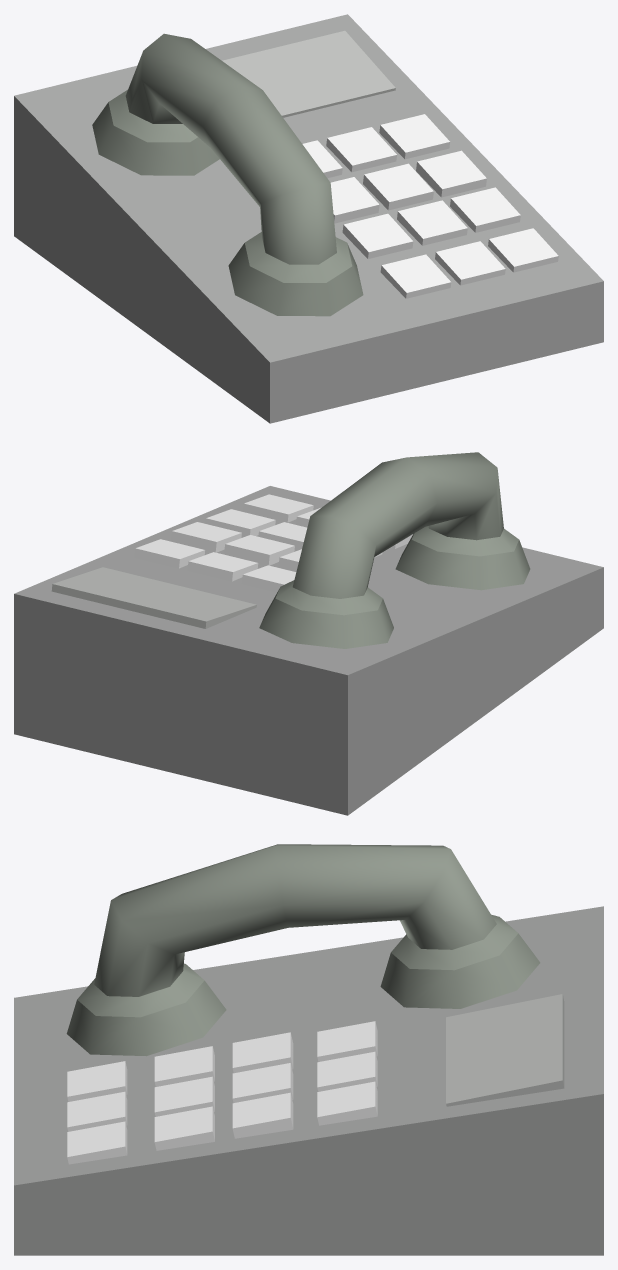
The model's file is soft_phone_1.fbx.
3 views of the same model, one above another, from view 1: azimuth 30°, elevation 25°; view 2: azimuth 150°, elevation 25°; view 3: azimuth 270°, elevation 25° (orthographic). The views are drawn at different scales.
Parts seen in each view (by area): view 1: soft_phone_1; view 2: soft_phone_1; view 3: soft_phone_1.
Part boxes in pixels (<box>): soft_phone_1: <box>14,14,603,423</box>; soft_phone_1: <box>14,452,603,815</box>; soft_phone_1: <box>14,844,603,1255</box>.
Bounding box in the file's own units: 1.27 × 0.8492 × 1.69.
